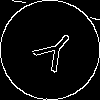Y: (25, 25, 80, 81)
